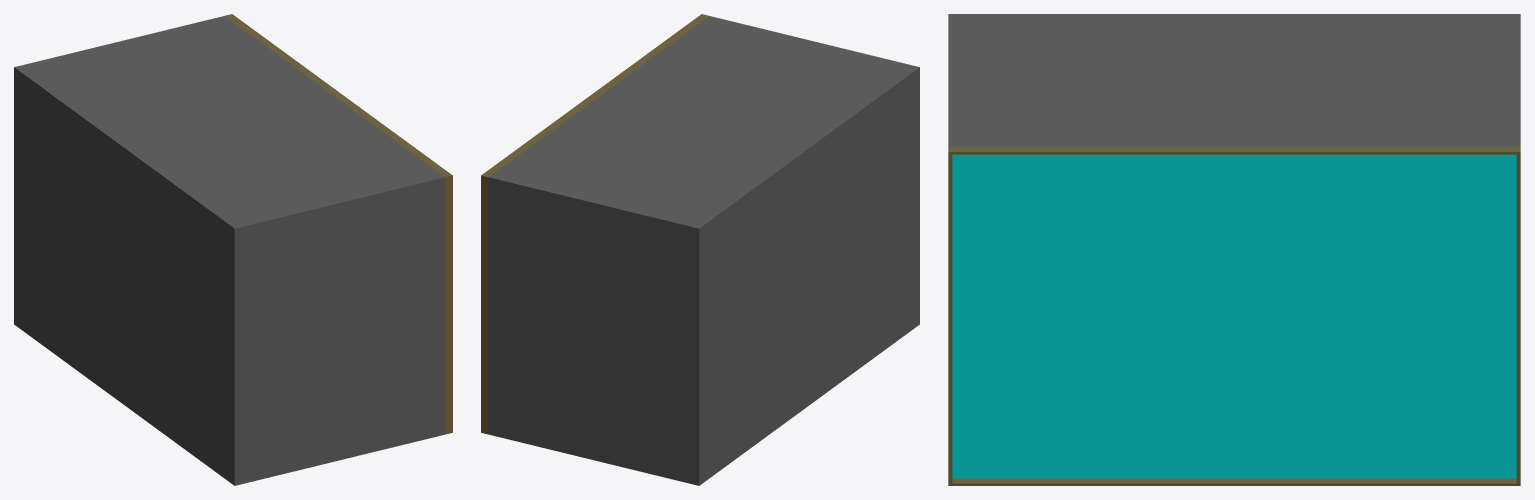
The model's file is floorplan_model_01.fbx.
3 renders of one model, left to right at view 1: azimuth 30°, elevation 25°; view 2: azimuth 150°, elevation 25°; view 3: azimuth 270°, elevation 25°, orthographic. The views are drawn at different scales.
Visible parts, largest first — view 1: pCube5; view 2: pCube5; view 3: pCube5.
Boxes of the visible parts, bbox=[...] form: pCube5: bbox=[14, 14, 452, 485]; pCube5: bbox=[481, 14, 919, 485]; pCube5: bbox=[948, 14, 1520, 485].
Size of the model in its own units: 7.8 by 8.79 by 13.66.
